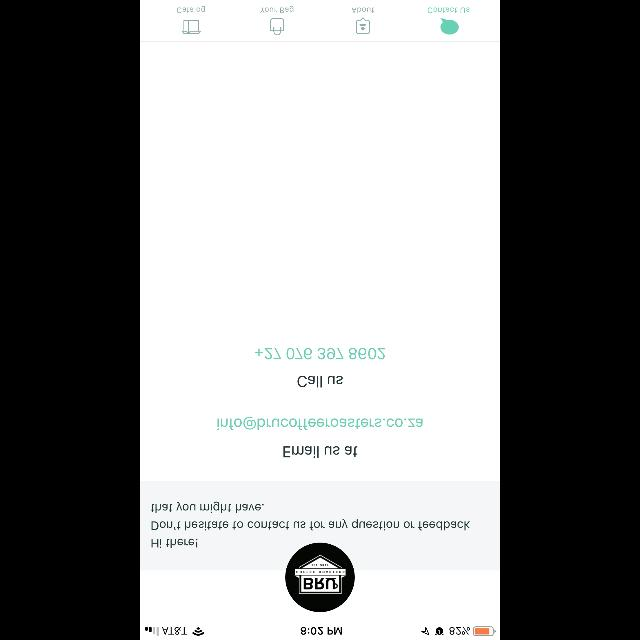icon: (440, 19, 458, 35), (270, 18, 284, 36), (356, 18, 370, 34)
image: (285, 542, 355, 612), (181, 21, 201, 34)
text: (150, 502, 470, 548), (218, 416, 422, 429), (255, 348, 385, 358), (283, 446, 357, 458), (298, 375, 342, 387), (260, 6, 294, 14), (428, 7, 470, 13), (177, 6, 205, 14), (352, 7, 374, 13)
uppertaskbar: (140, 626, 500, 640)
